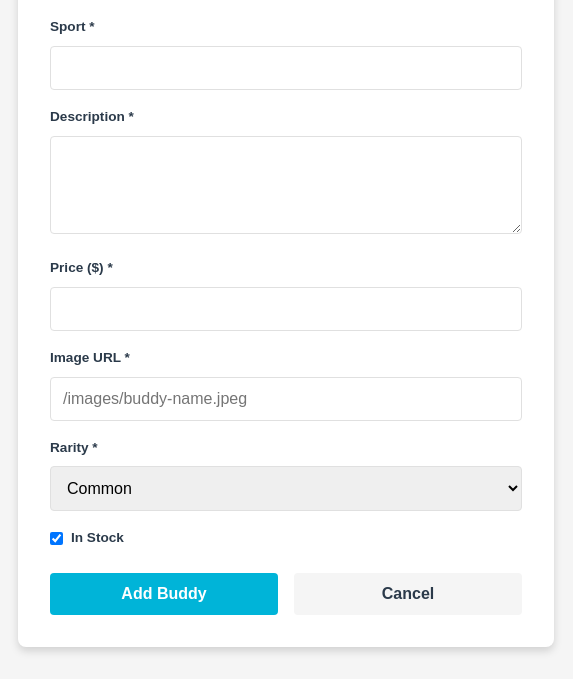
ProductForm › Validation › should clear validation error when user types in field
(page scrolled)
// Submit empty form to trigger errors
Click the button "Add Buddy".
click(164, 594)  # box left=50, top=573, right=278, bottom=615
(page scrolled)
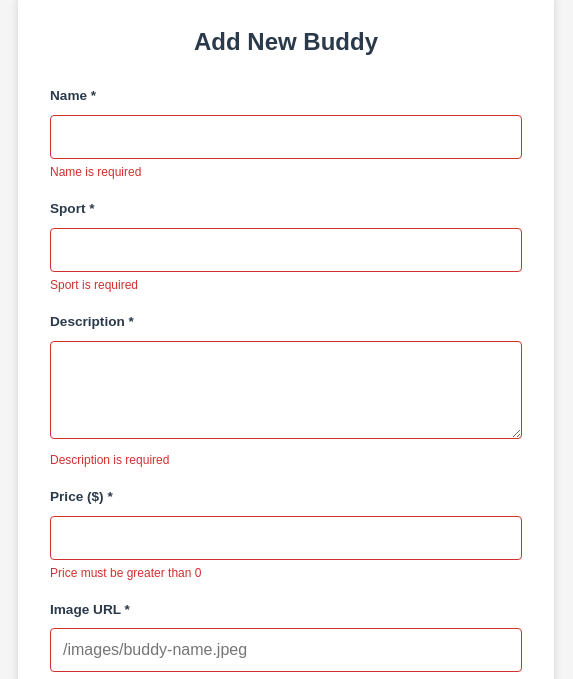
Expected: the text "Name is required" is shown, left=50, top=165, right=141, bottom=179
// Type in name field
Type "Test" into the field labelled "Name *".
click(286, 137); type("Test")  # box left=50, top=115, right=522, bottom=159
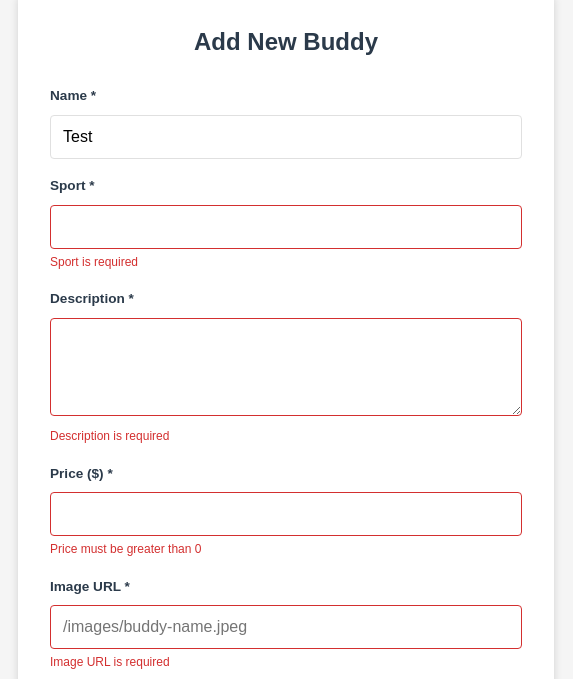
Expected: the text "Sport is required" is shown, left=50, top=255, right=138, bottom=269
Expected: the text "Name is required" is gone
